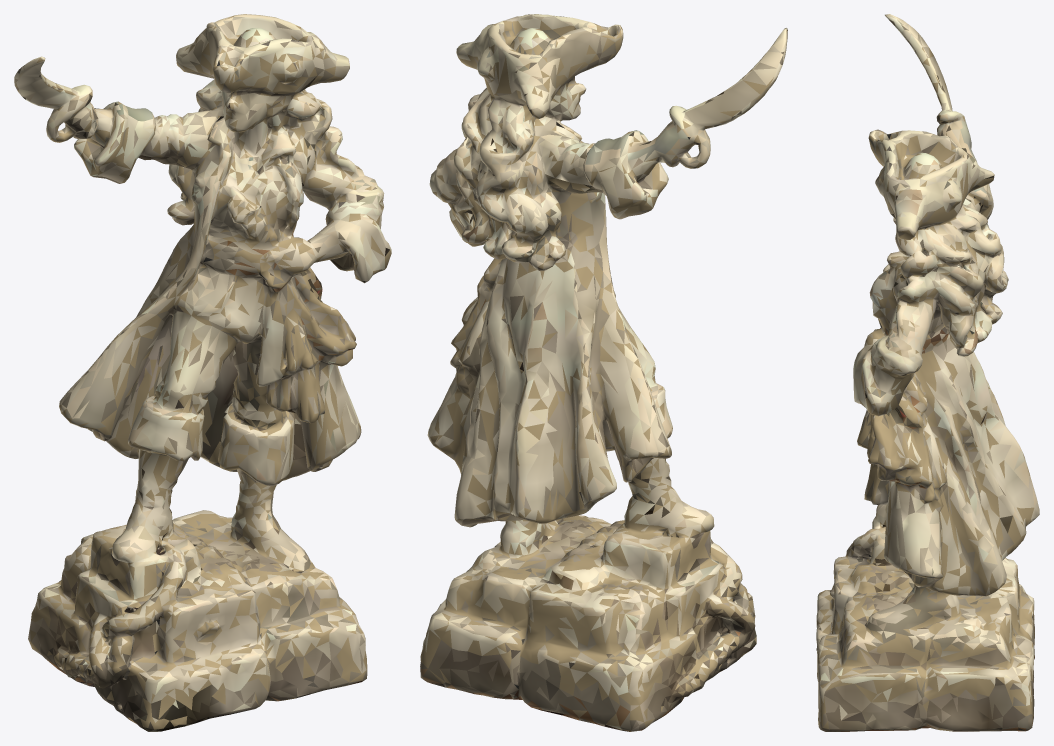
Rendered from pirate-queen-statue.glb.
3 renders of one model, left to right at view 1: azimuth 30°, elevation 25°; view 2: azimuth 150°, elevation 25°; view 3: azimuth 270°, elevation 25°, orthographic. The views are drawn at different scales.
Parts seen in each view (by area): view 1: pirate-queen-statue; view 2: pirate-queen-statue; view 3: pirate-queen-statue.
Boxes of the visible parts, x1=… form: pirate-queen-statue: x1=14, y1=14, x2=391, y2=731; pirate-queen-statue: x1=420, y1=14, x2=787, y2=731; pirate-queen-statue: x1=816, y1=14, x2=1039, y2=731.
Size of the model in its own units: 12.36 by 22.08 by 7.52.
Materials: 11 (10 with a texture image).
